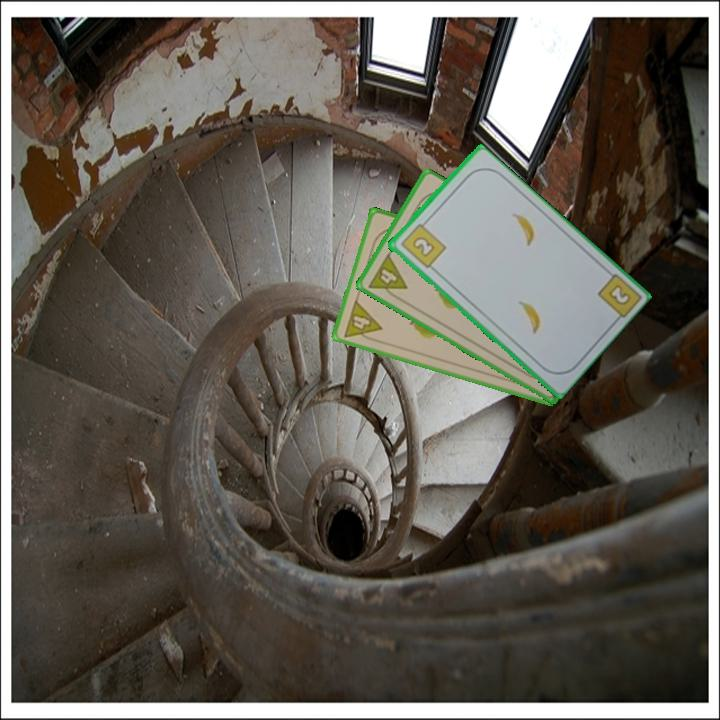2b: (397, 217, 448, 271), (604, 281, 633, 308)
4p: (365, 250, 410, 304), (340, 296, 385, 346)
